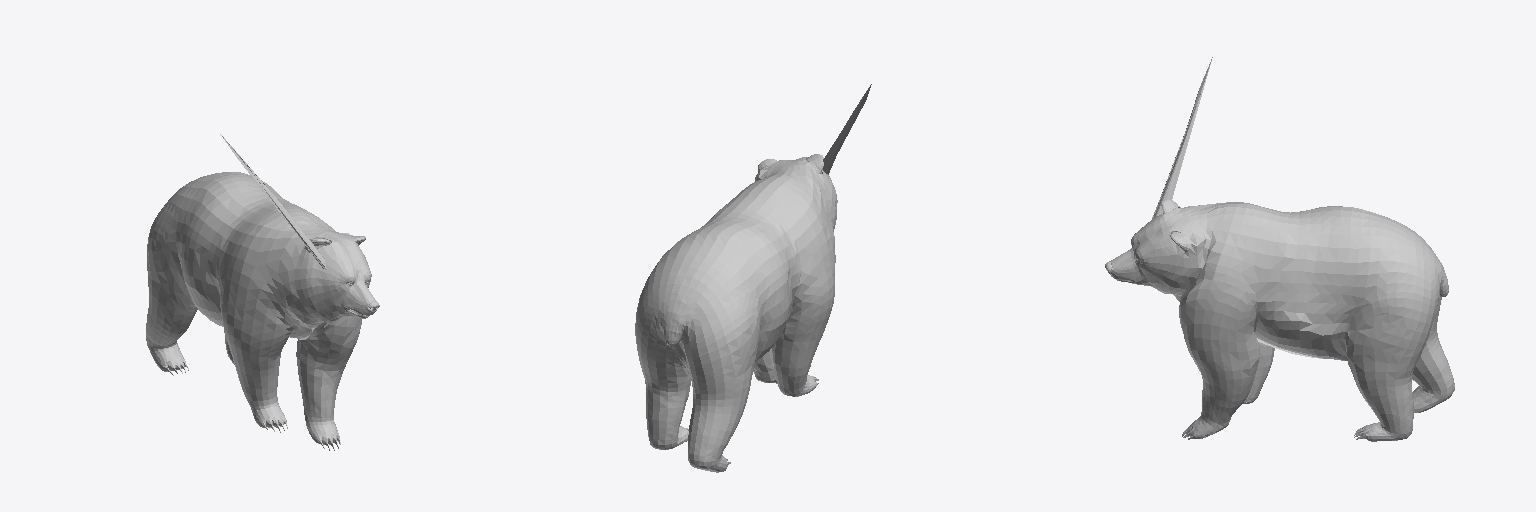
Rendered from Bear0102.obj.
3 views of the same model, side by side, from view 1: azimuth 30°, elevation 25°; view 2: azimuth 150°, elevation 25°; view 3: azimuth 270°, elevation 25° (orthographic).
Parts seen in each view (by area): view 1: Object_237; view 2: Object_237; view 3: Object_237.
Part boxes in pixels (x1,y1,x2,y2): Object_237: (146,134,379,450); Object_237: (635,84,871,472); Object_237: (1105,57,1454,441).
Size of the model in its own units: 2.31 by 5.15 by 4.9.